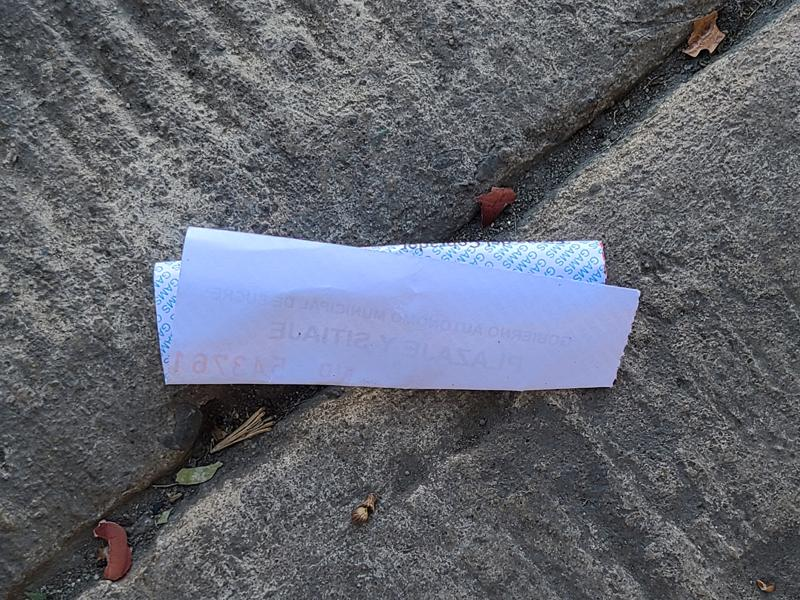papel: (151, 227, 641, 393)
